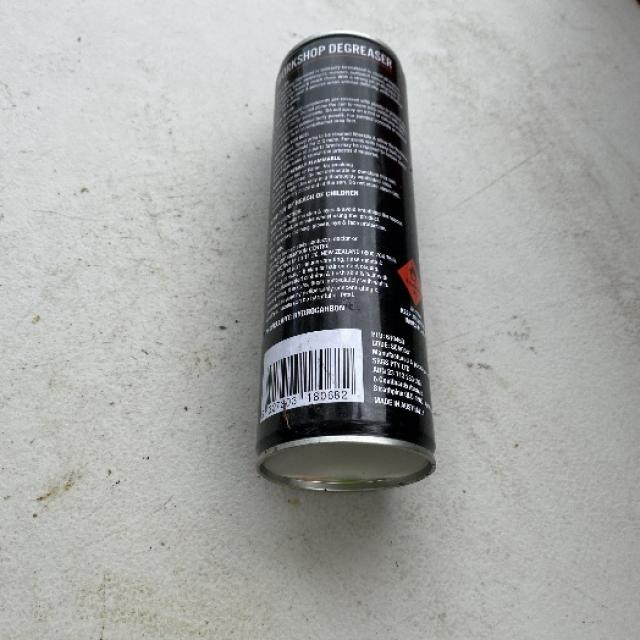metal: (254, 28, 436, 492)
